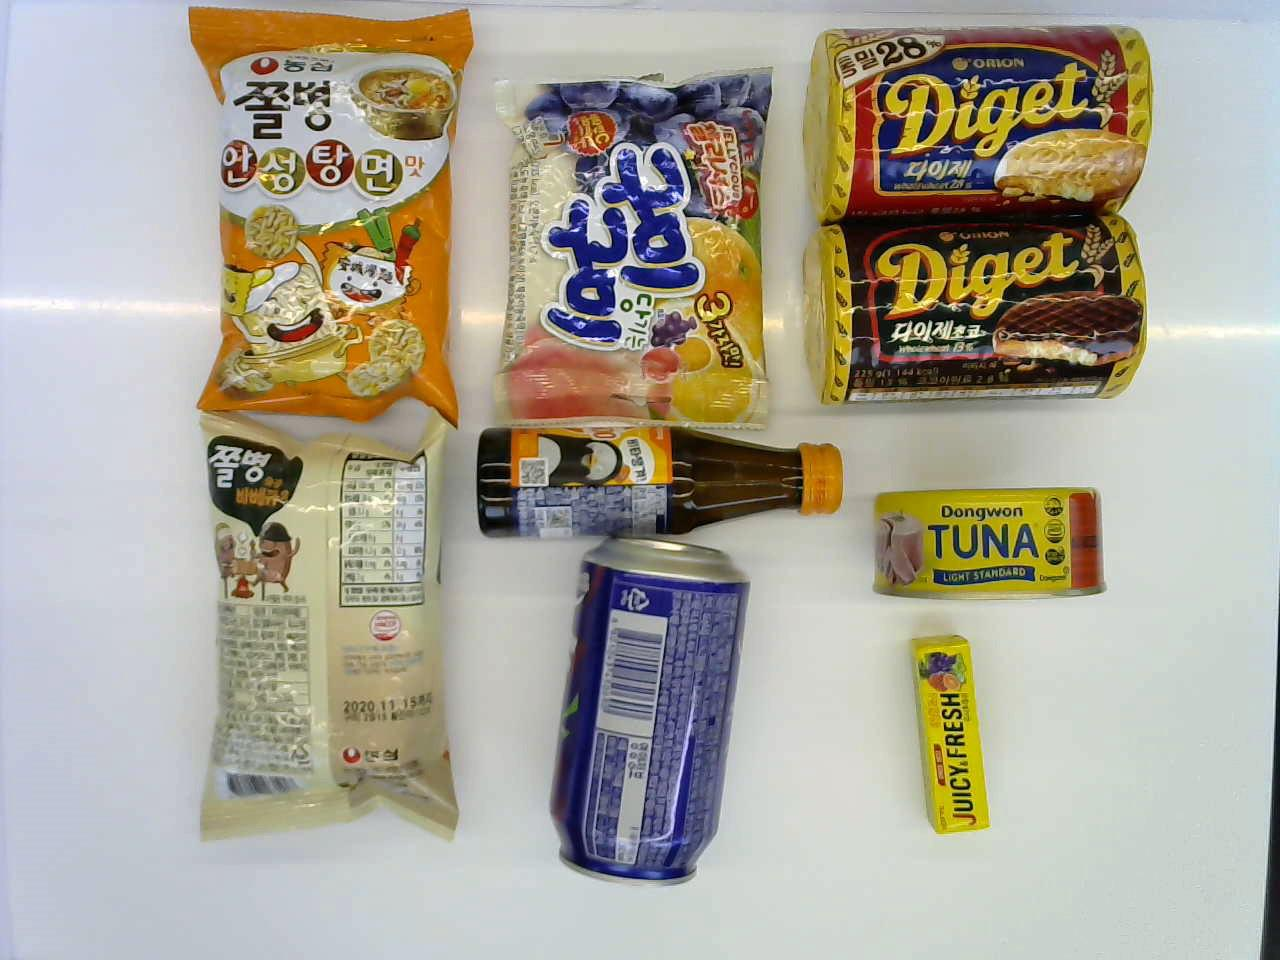diget_choco: (789, 205, 1149, 414)
diget_ori: (796, 17, 1156, 225)
gumi_gumi: (487, 54, 767, 427)
jjolbyung_noodle: (177, 7, 458, 431)
jjolbyung_ori: (186, 418, 462, 847)
juicyfresh: (911, 626, 998, 839)
tuna: (866, 481, 1108, 595)
vita500: (475, 416, 842, 536)
welchs: (552, 536, 736, 906)
